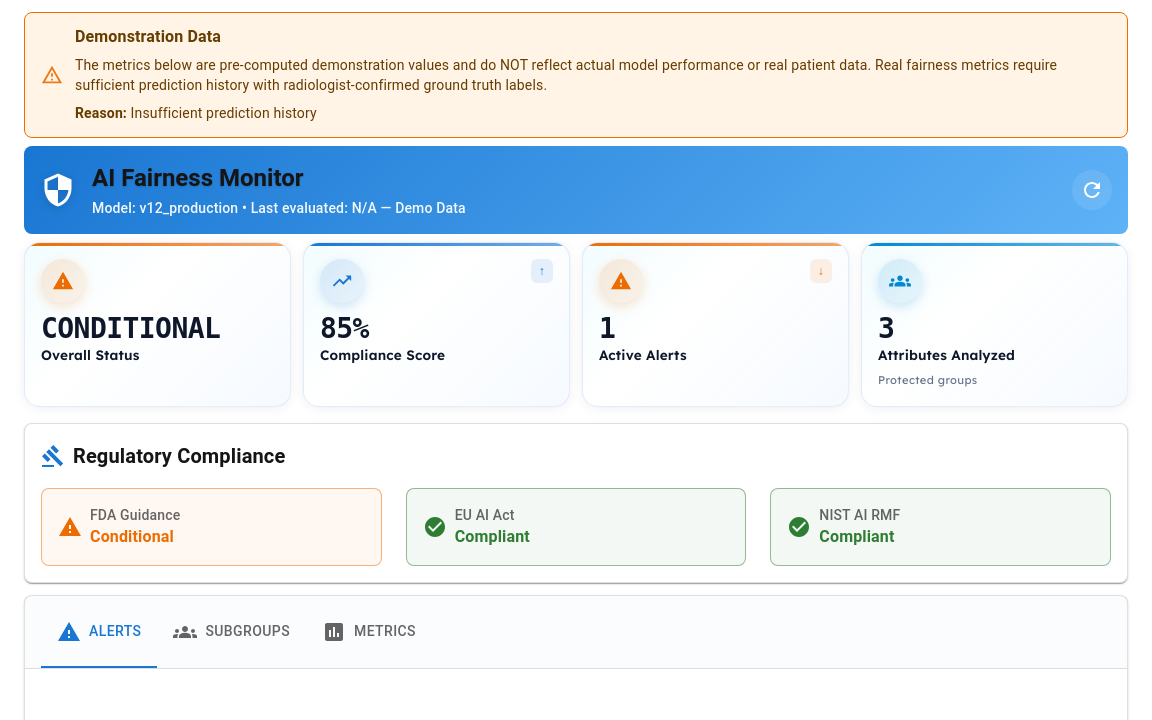
Scenario: FairnessDashboard — Subgroups Tab › renders subgroup metric values (sensitivity, specificity, AUC)
The width and height of the screenshot is (1152, 720).
Check: the heading "AI Fairness Monitor" is shown, box x1=92 y1=164 x2=304 y2=192
# Click Subgroups tab
Click the tab "Subgroups". click: [232, 632]
box: x1=158 y1=596 x2=306 y2=668
(page scrolled)
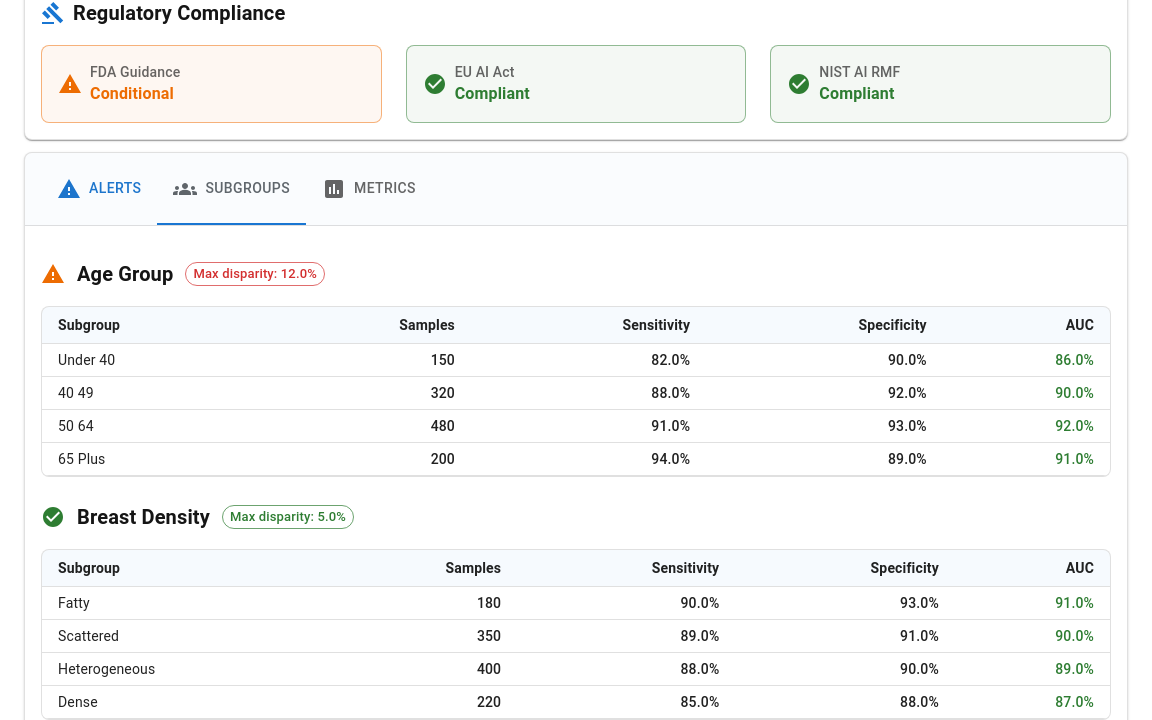
Check: the text "82.0%" is shown, box x1=651 y1=352 x2=690 y2=368
